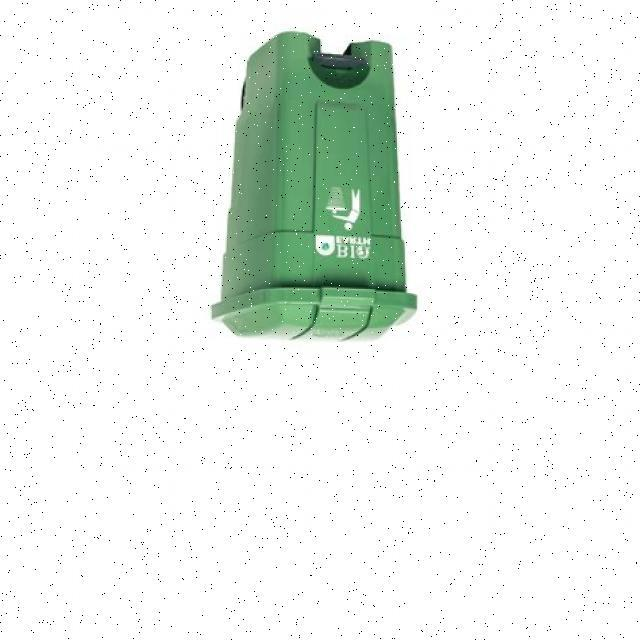garbage container: (185, 24, 505, 368)
